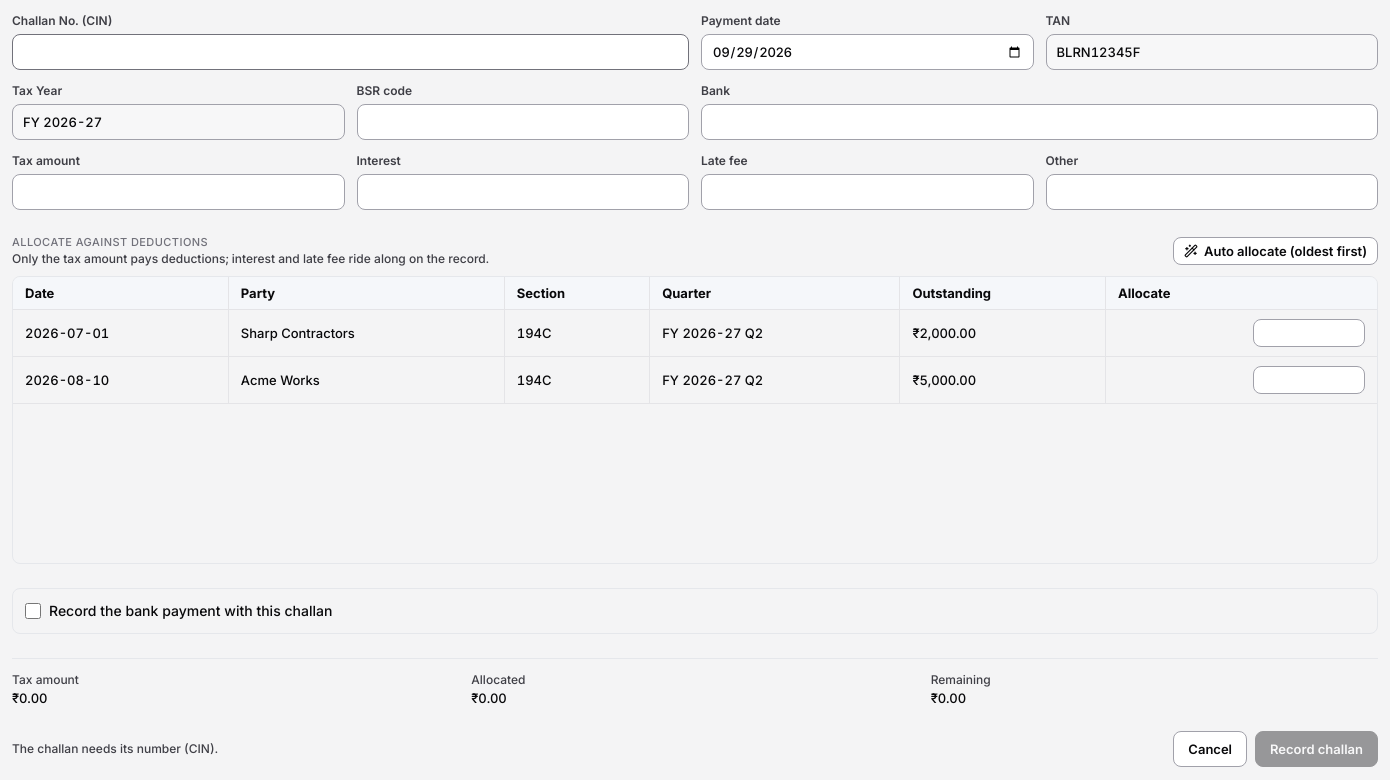
Test case: what the form offers to allocate › refuses to spend more than the tax amount
Type "CHL-2026-091" into the field labelled "Challan No. (CIN)" at coordinates (350, 52), box [12,34,689,70]
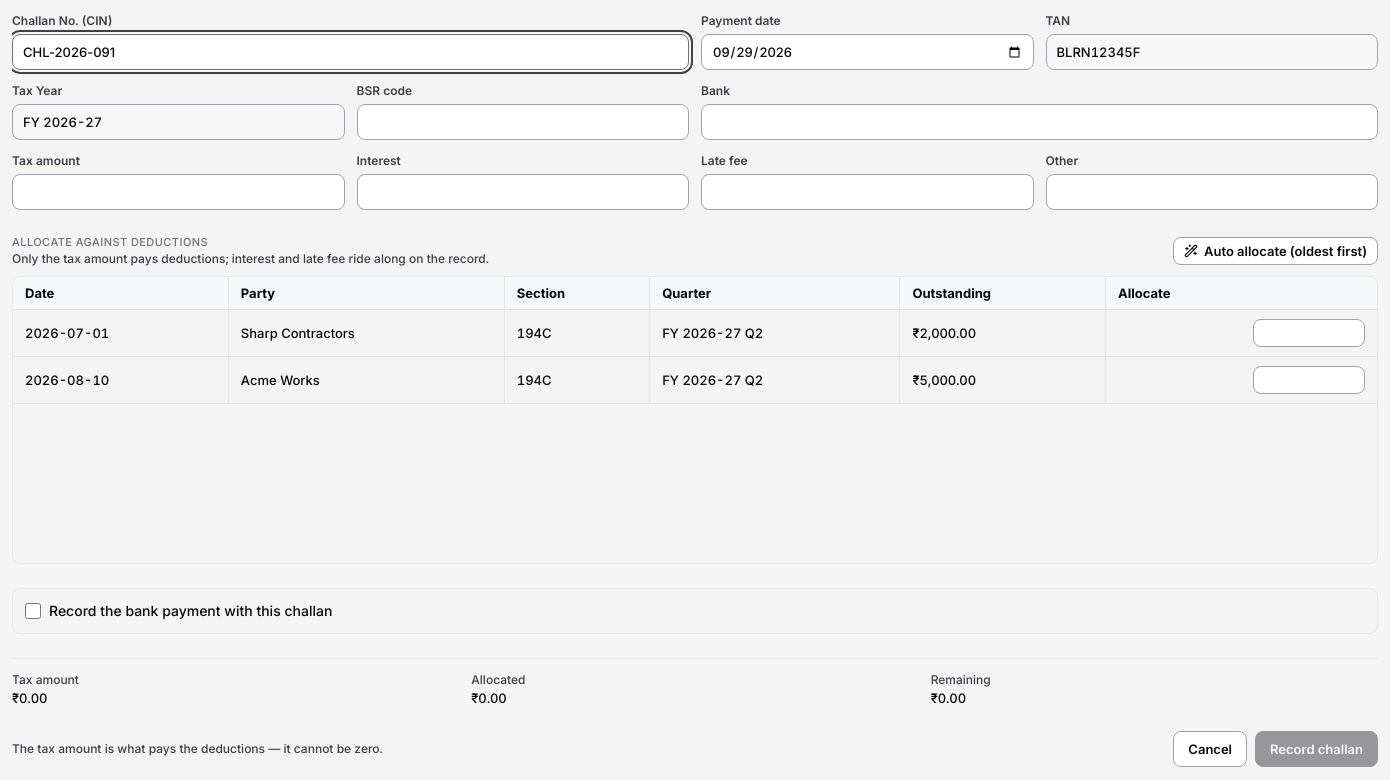
Type "1000" into the number field labelled "Tax amount" at coordinates (178, 192), box [12,174,344,210]
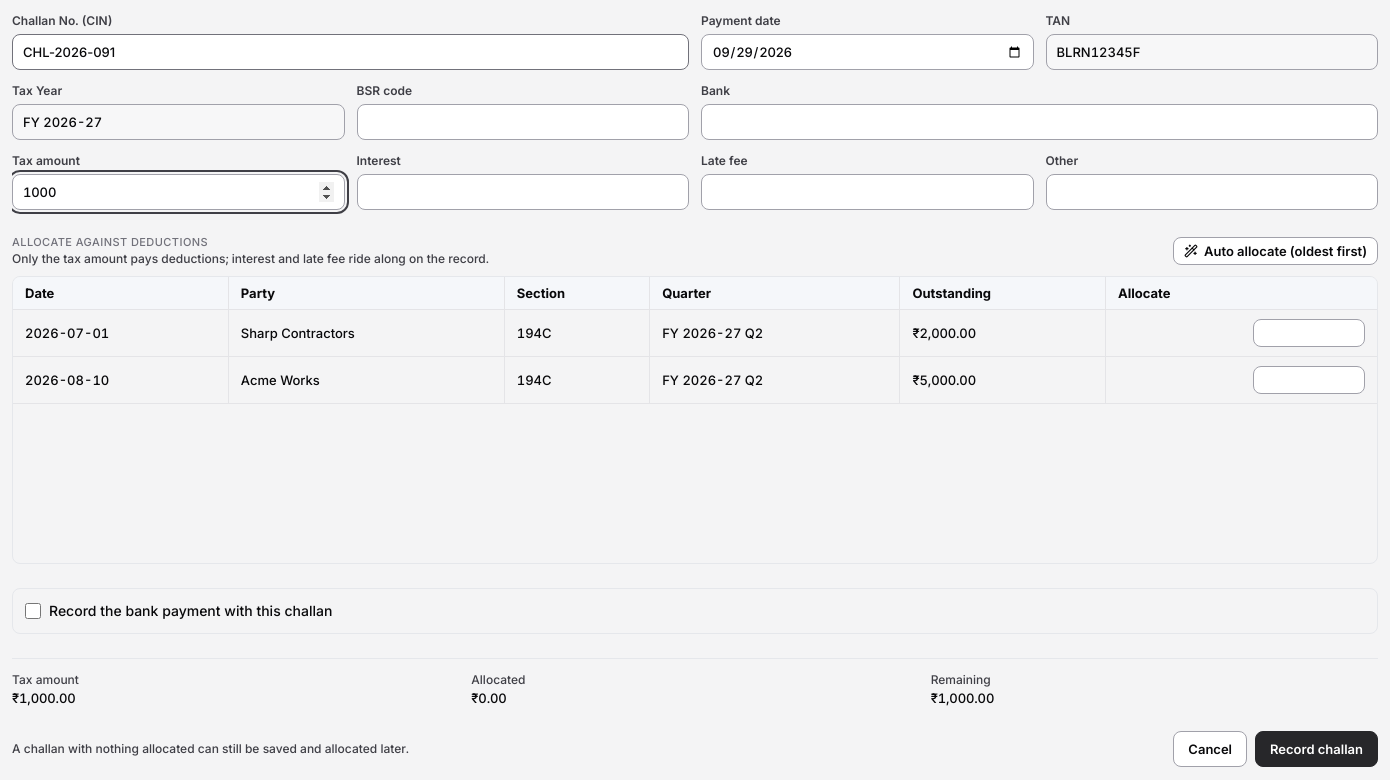
Type "5000" into the number field labelled "Interest" at coordinates (523, 192), box [356,174,689,210]
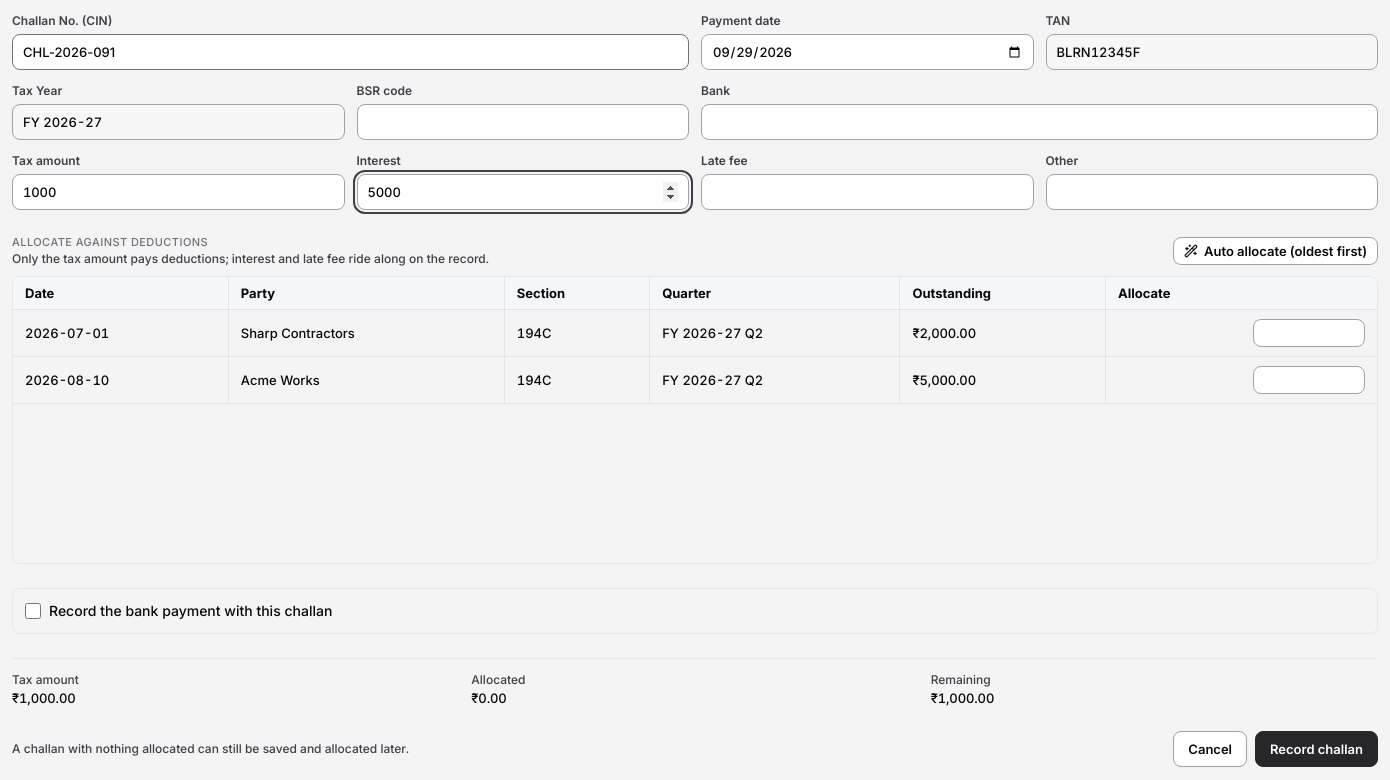
Type "2000" into the number field named "Allocate to Sharp Contractors" at coordinates (1309, 333), box [1253,319,1365,347]
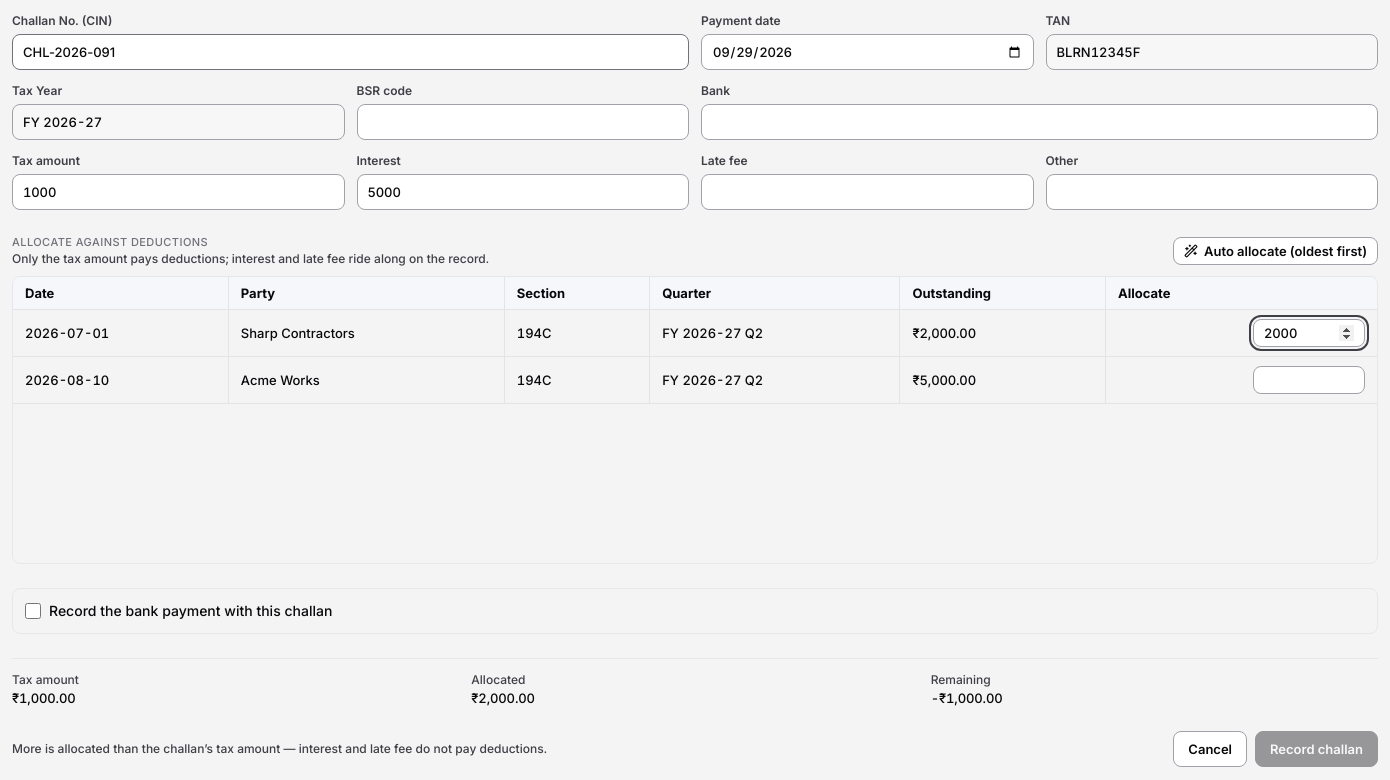
Now the button "Record challan" is disabled, box [1255,731,1378,767]
Now the text "interest and late fee do not pay deductions" is shown, box [12,741,547,756]
